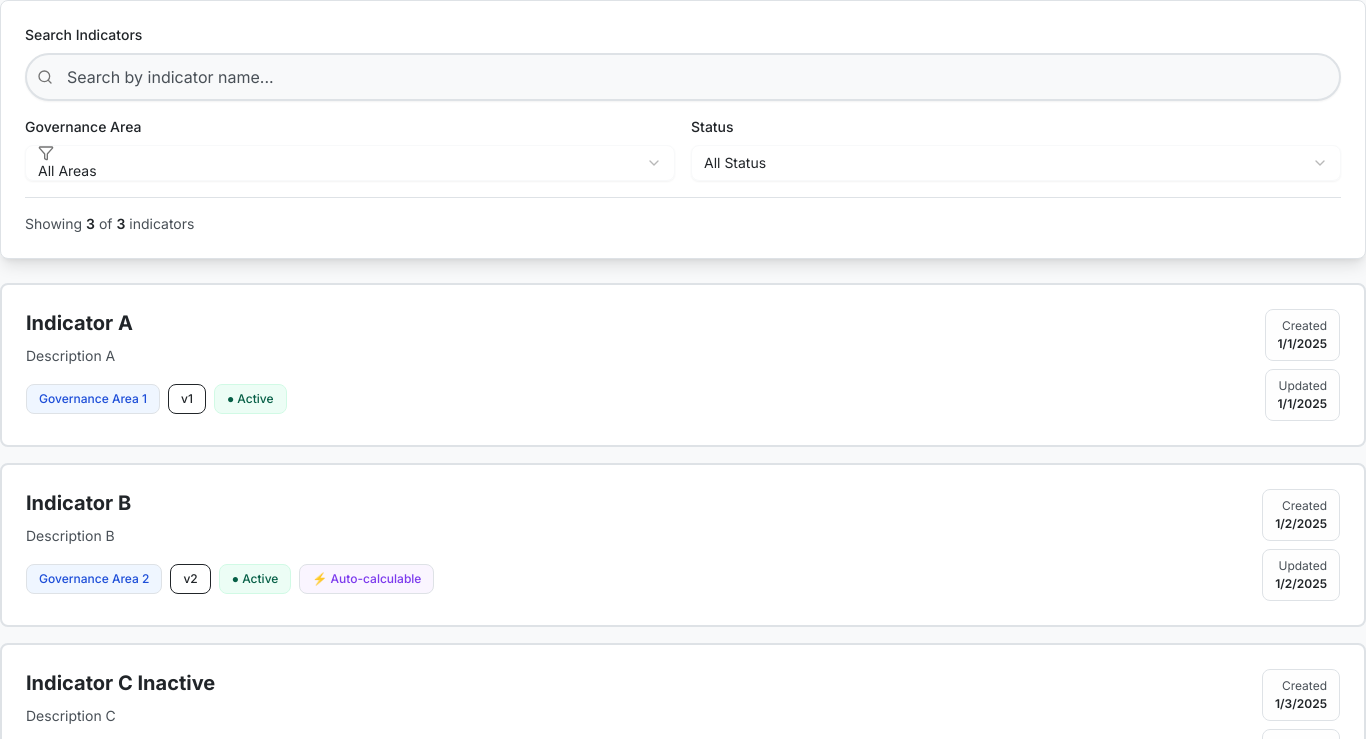
Test: IndicatorList › filters indicators by search query
This screenshot has width=1366, height=739.
// Search for "Indicator B"
Type "Indicator B" into the field with placeholder "Search by indicator name..." at (683, 77), box [25,53,1341,101]
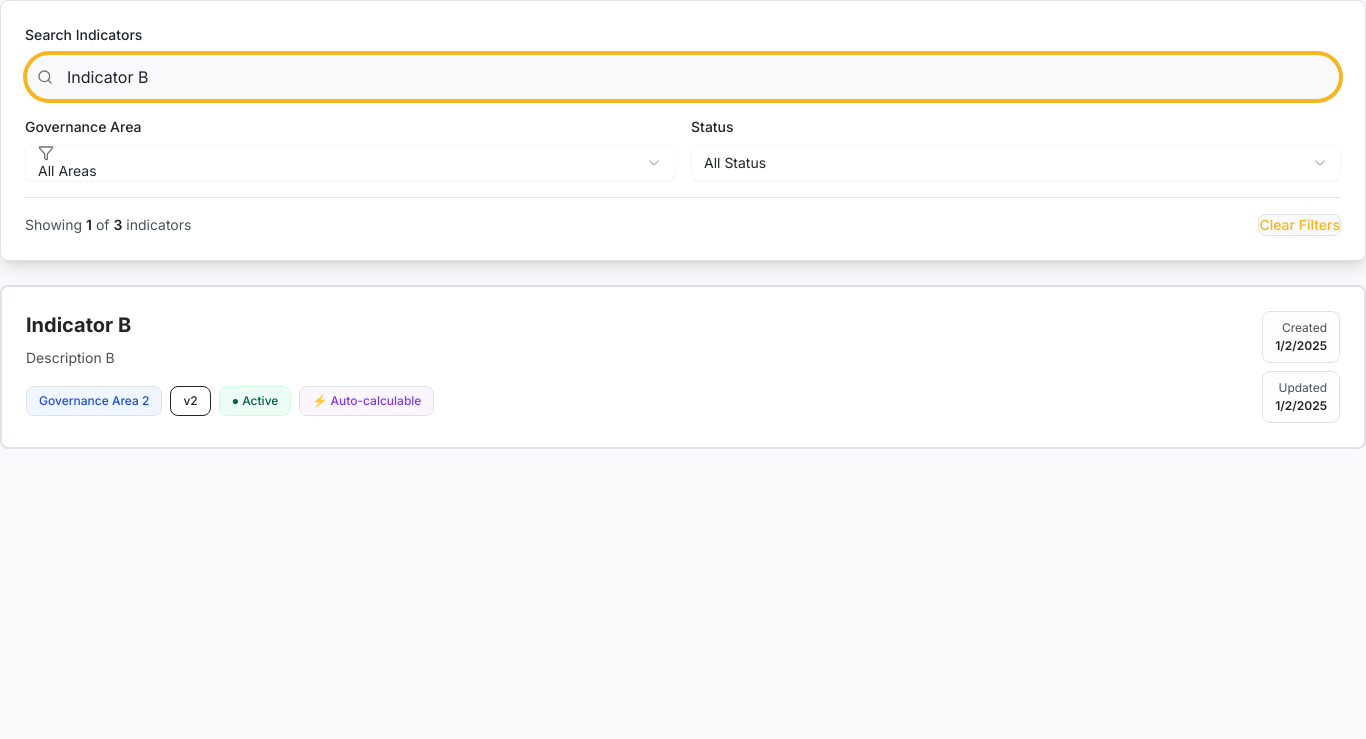
Expected: the heading "Indicator B" is shown, [26,311,131,339]
Now the heading "Indicator A" is gone
Now the heading "Indicator C Inactive" is gone
